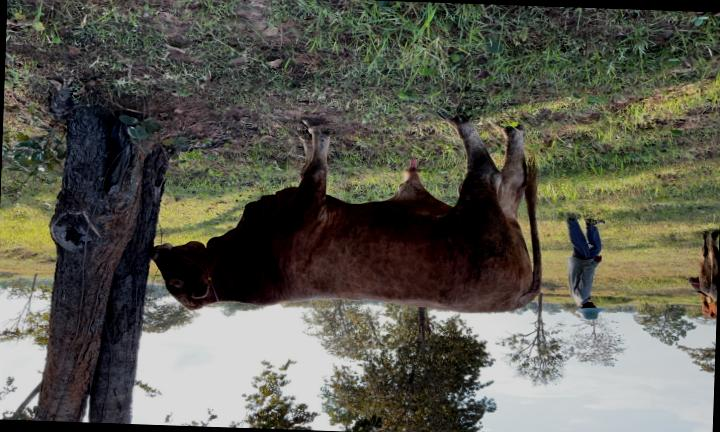Charolais: (151, 118, 541, 313)
